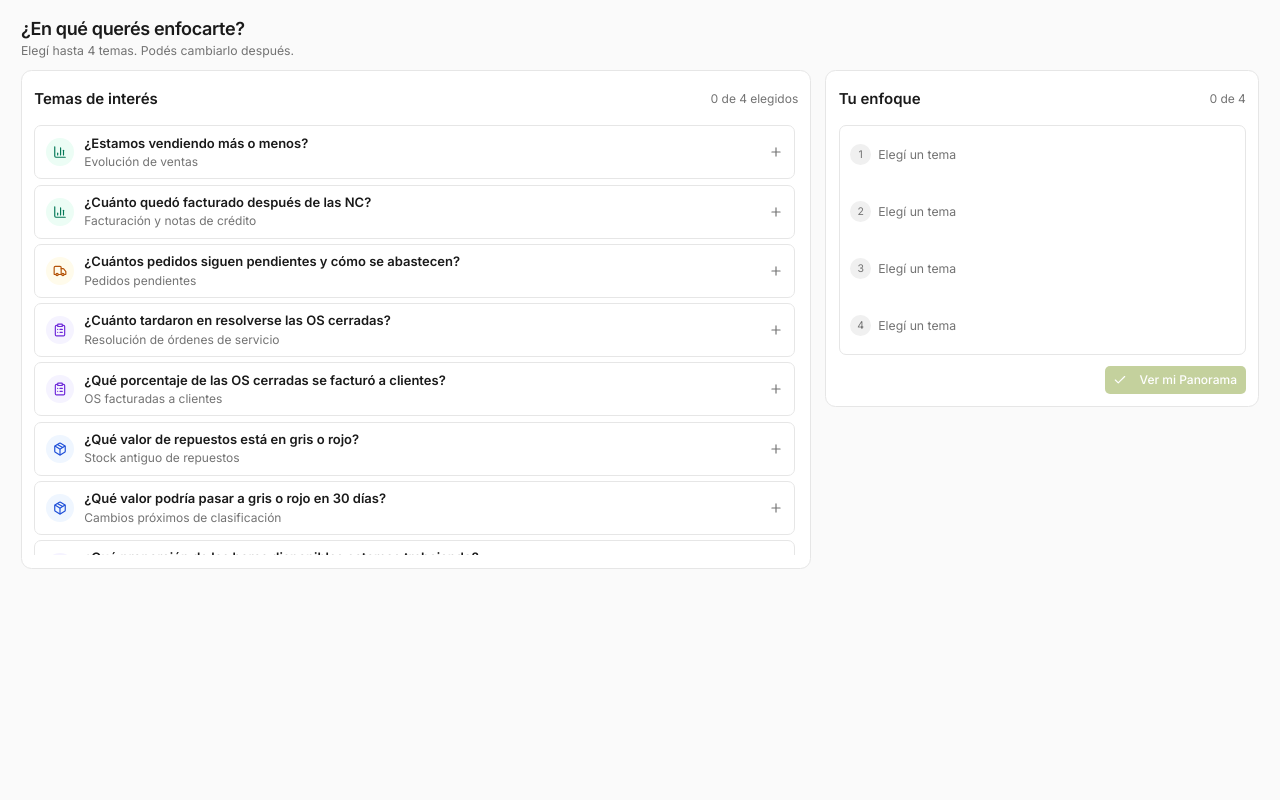
Test: Campi Panorama configuration › keeps the topic selector open when saving fails
The width and height of the screenshot is (1280, 800).
Click the button "Facturación y notas de crédito": (228, 202) [34,184,795,238]
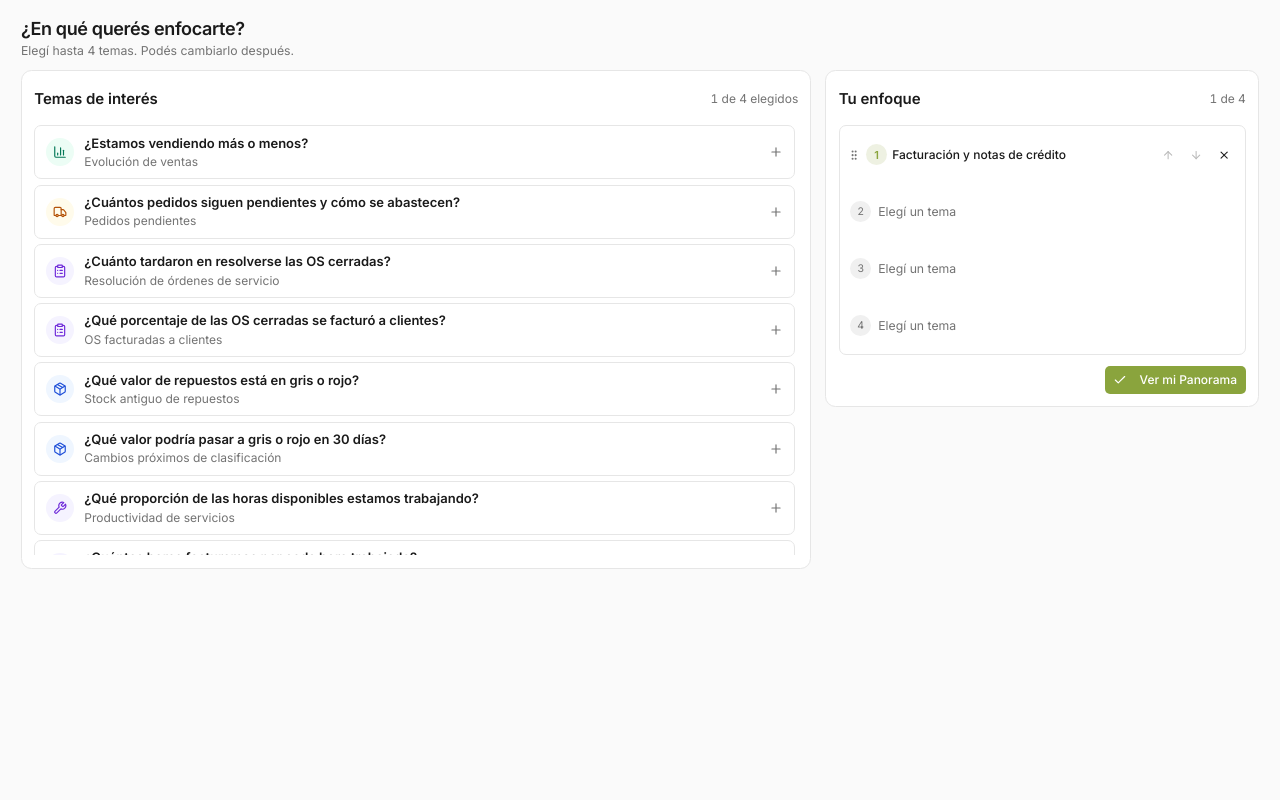
Click the button "Ver mi Panorama": (1175, 380) [1104,366,1246,394]
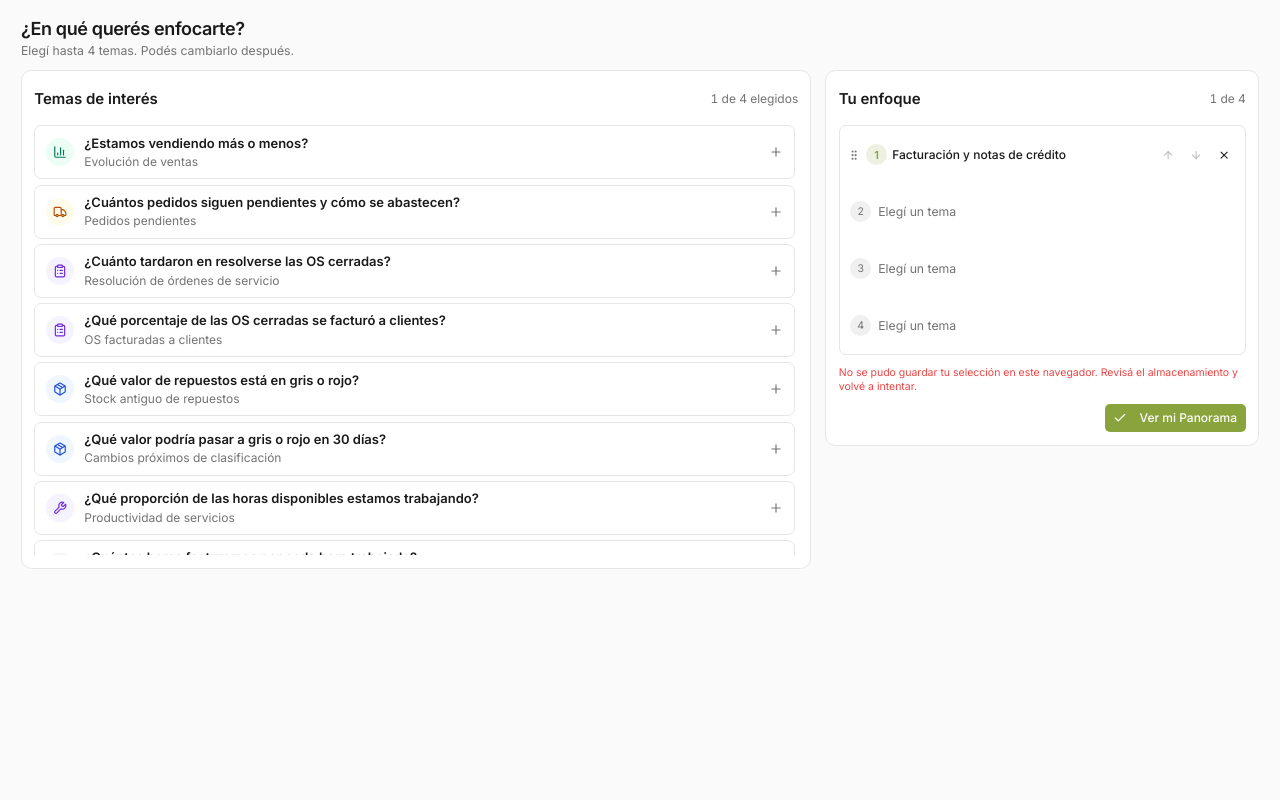
Expected: the heading "¿En qué querés enfocarte?" is shown, [21,18,245,38]
Expected: the message shows "No se pudo guardar", [839,366,1238,393]
